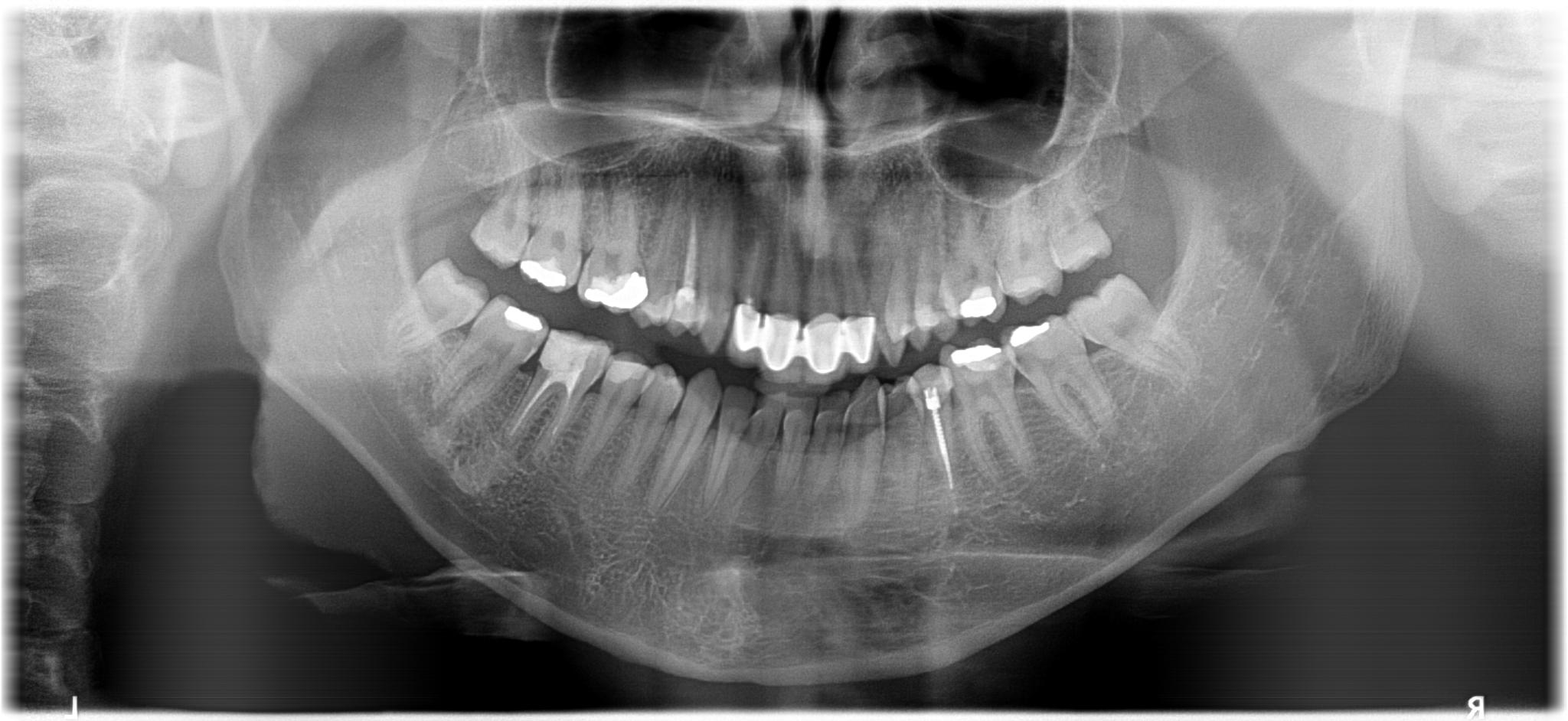Premolars: (463, 154, 1444, 655), (509, 195, 1568, 621), (210, 228, 690, 633), (321, 112, 964, 294)
